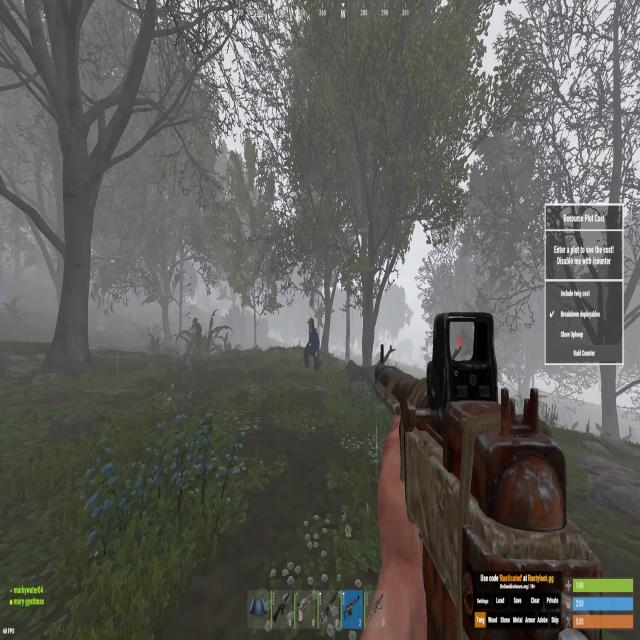Player: (304, 316, 322, 370)
